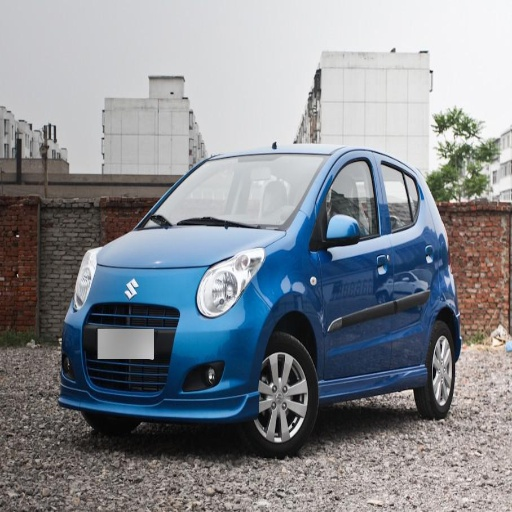front_bumper: (64, 265, 268, 424)
front_glass: (138, 158, 326, 230)
front_left_door: (317, 152, 392, 381)
